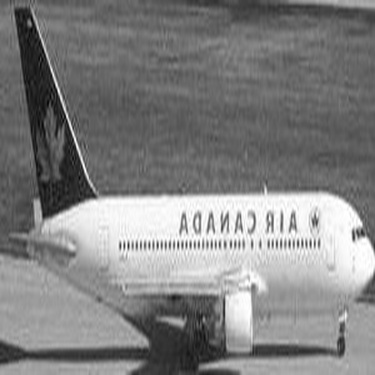airplane: (8, 1, 367, 348)
